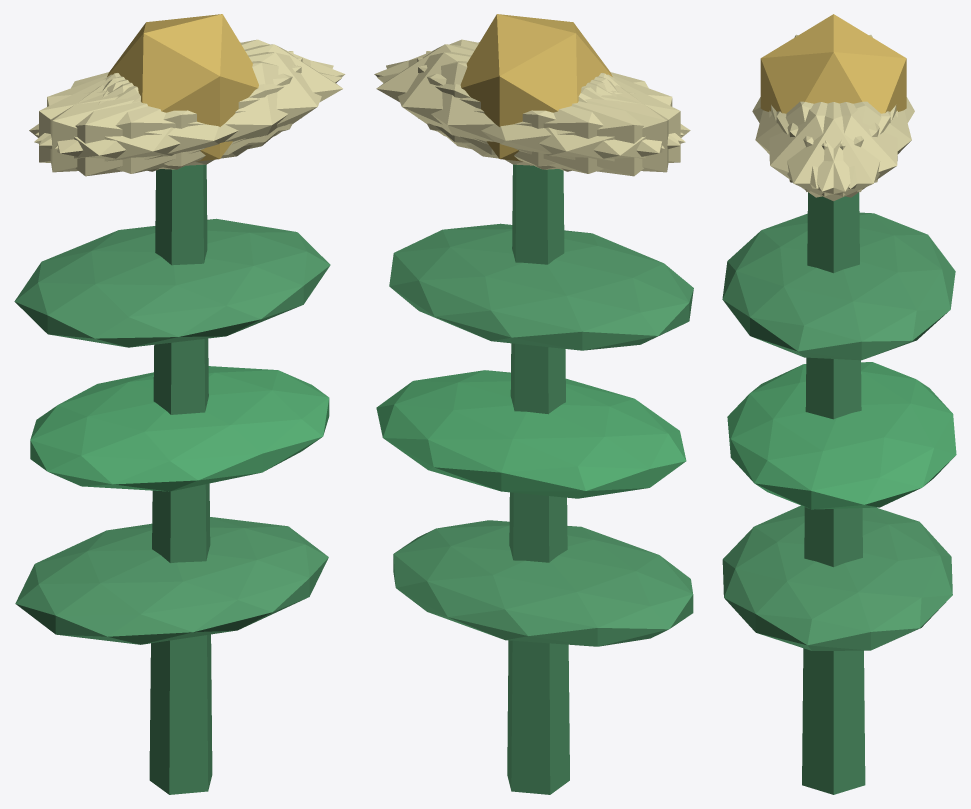
File: trema-orientale.glb
The picture shows the model from 3 angles, left to right: view 1: azimuth 30°, elevation 25°; view 2: azimuth 150°, elevation 25°; view 3: azimuth 270°, elevation 25°; orthographic projection.
Visible parts, largest first — view 1: leaf2, leaf0, leaf1, stem, center, petal1, petal6, petal2, petal5, petal7, petal0, petal4 (+2 smaller); view 2: leaf1, leaf2, leaf0, stem, center, petal8, petal3, petal7, petal4, petal2, petal0, petal5 (+2 smaller); view 3: leaf2, leaf1, leaf0, stem, center, petal0, petal5, petal4, petal1, petal8.
Part boxes in pixels (<box>): leaf2: <box>14,218,330,347</box>; leaf0: <box>15,517,328,644</box>; leaf1: <box>30,366,329,491</box>; stem: <box>149,164,212,794</box>; center: <box>107,14,258,161</box>; petal1: <box>34,61,342,173</box>; petal6: <box>29,74,252,176</box>; petal2: <box>50,51,293,172</box>; petal5: <box>55,52,333,166</box>; petal7: <box>39,57,302,169</box>; petal0: <box>106,44,342,155</box>; petal4: <box>35,39,345,146</box>; leaf1: <box>376,370,686,498</box>; leaf2: <box>389,223,693,350</box>; leaf0: <box>393,520,693,646</box>; stem: <box>507,164,569,794</box>; center: <box>460,14,612,161</box>; petal8: <box>377,61,685,173</box>; petal3: <box>467,74,690,176</box>; petal7: <box>426,51,668,172</box>; petal4: <box>386,52,664,166</box>; petal2: <box>417,57,680,169</box>; petal0: <box>376,44,612,155</box>; petal5: <box>374,39,683,145</box>; leaf2: <box>722,212,955,360</box>; leaf1: <box>727,362,956,509</box>; leaf0: <box>722,505,952,650</box>; stem: <box>802,192,865,794</box>; center: <box>760,14,906,113</box>; petal0: <box>771,102,896,201</box>; petal5: <box>769,102,890,197</box>; petal4: <box>776,102,897,197</box>; petal1: <box>755,101,879,188</box>; petal8: <box>787,101,911,188</box>.
Size of the model in its own units: 0.1469 by 0.3467 by 0.0983.
